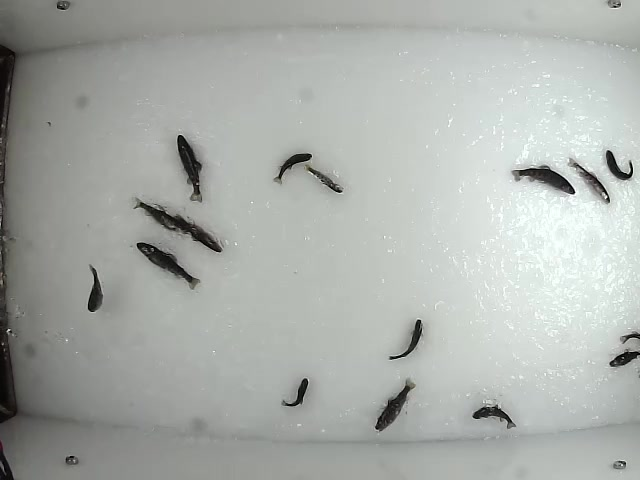fish: (149, 199, 223, 252), (132, 241, 202, 291), (371, 377, 417, 434), (562, 155, 612, 204), (172, 133, 206, 205), (509, 163, 579, 197), (134, 195, 187, 235), (387, 315, 424, 364), (272, 149, 315, 188), (303, 162, 346, 194), (81, 264, 104, 314), (280, 376, 311, 409), (606, 149, 635, 182)
